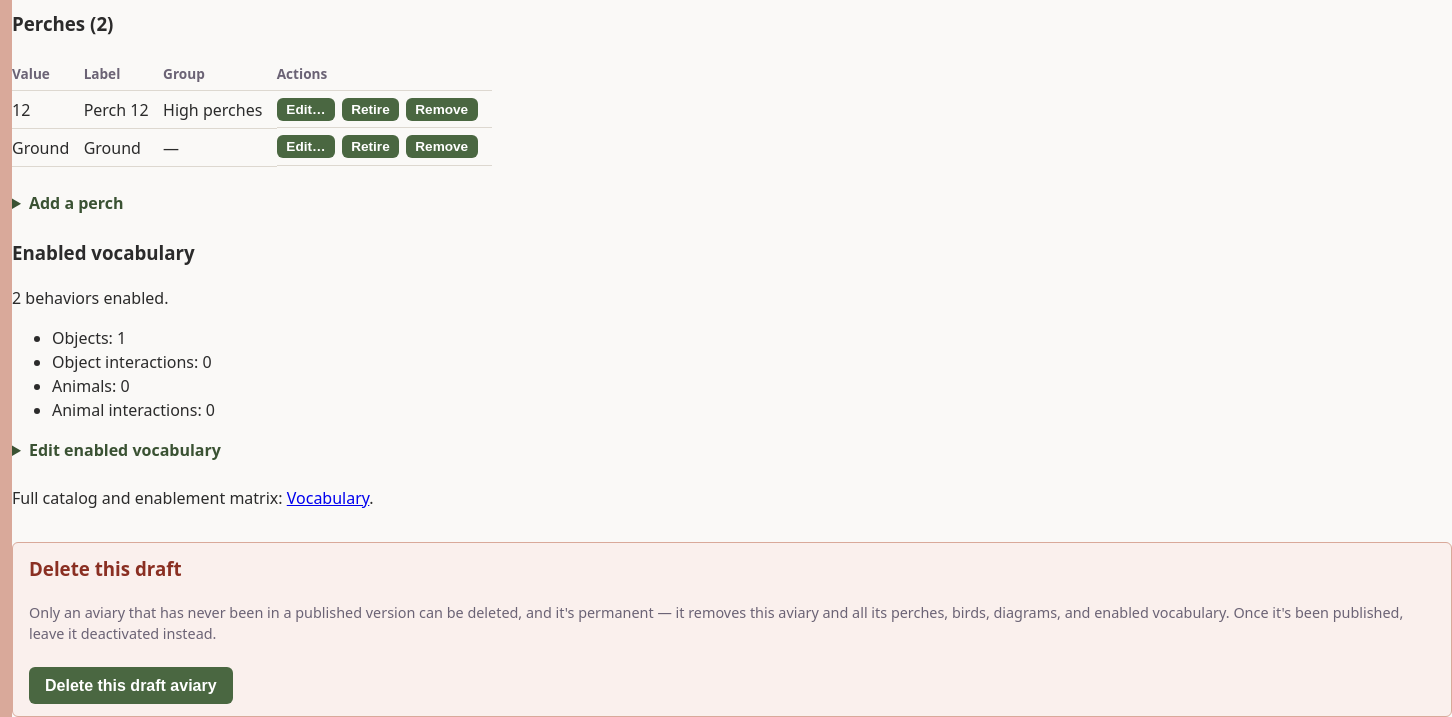
AviaryPage › surfaces the server's refusal and stays put when delete is blocked
(page scrolled)
Click the button "Delete this draft aviary" at (131, 686), box [29,667,233,704]
(page scrolled)
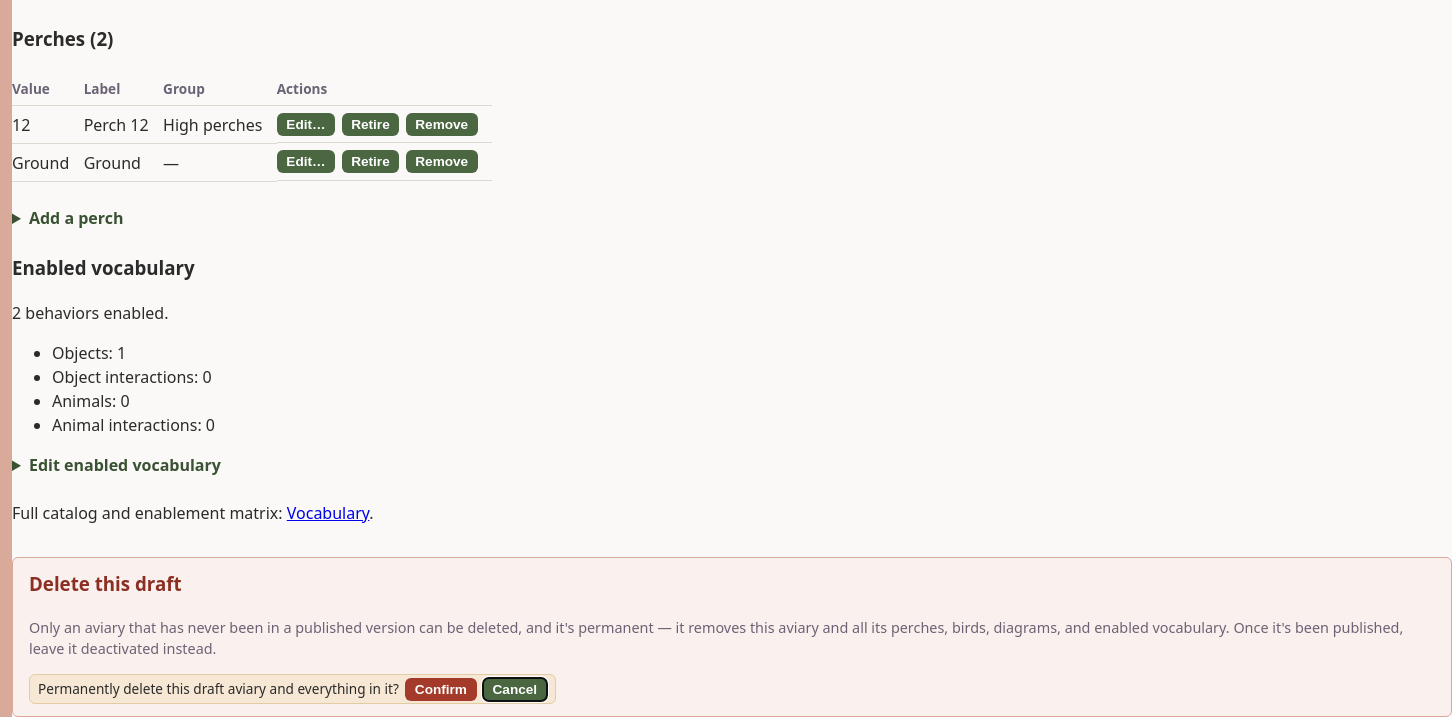
Click the button "Confirm" at (441, 689), box [405,678,477,701]
(page scrolled)
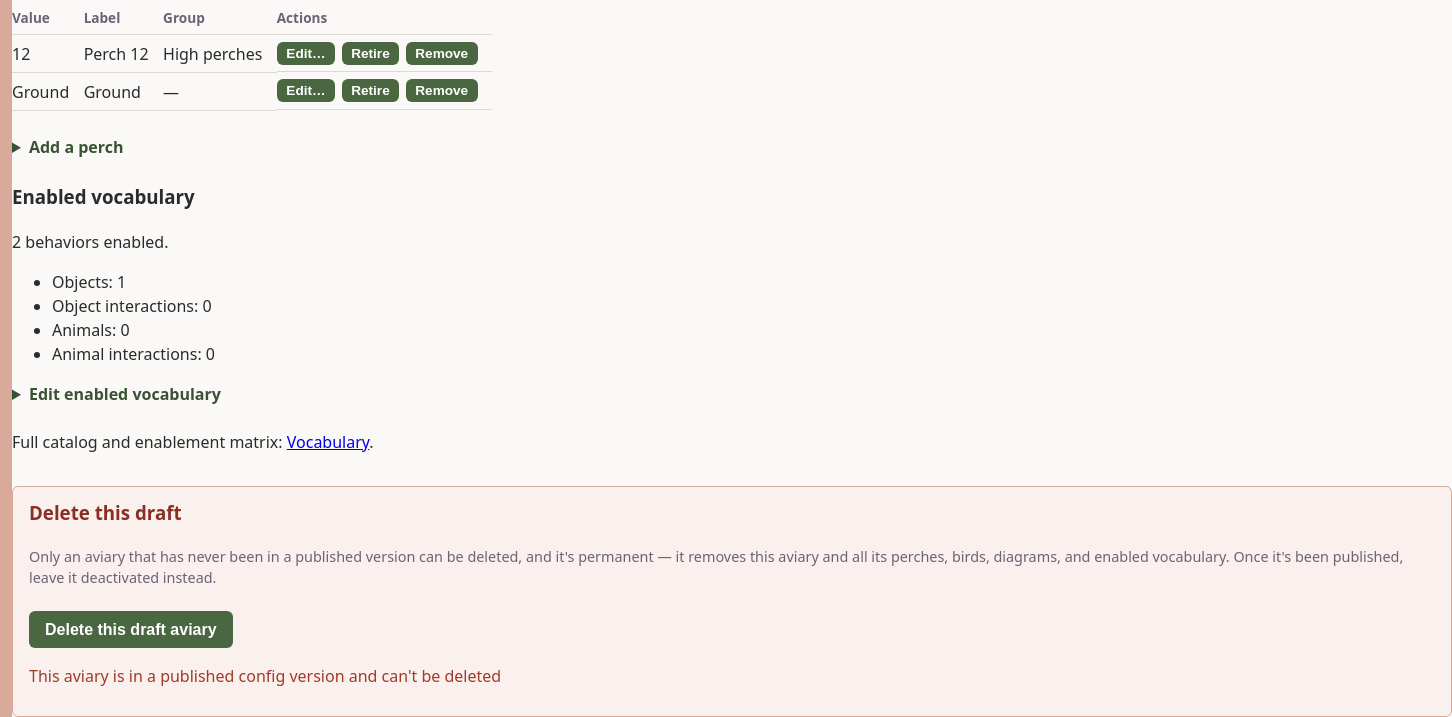
Expected: the message shows "published config version", [29,665,501,687]
